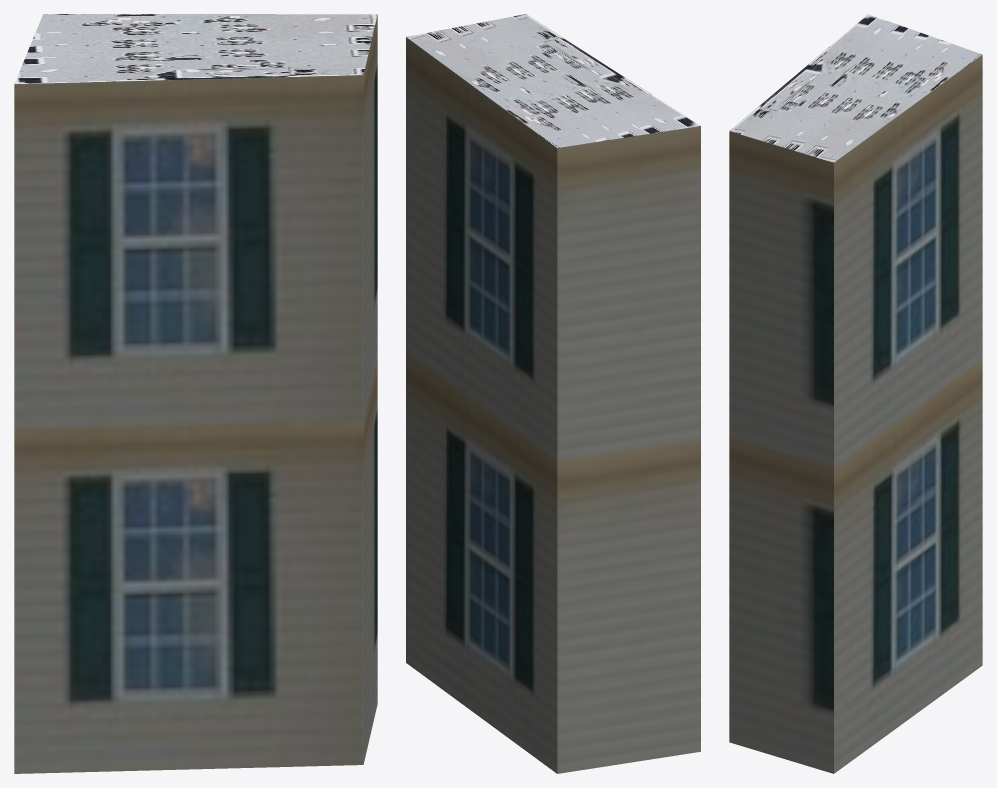
The model's file is ResTex__2446.fbx.
3 views of the same model, side by side, from view 1: azimuth 30°, elevation 25°; view 2: azimuth 150°, elevation 25°; view 3: azimuth 270°, elevation 25° (orthographic). The views are drawn at different scales.
Visible parts, largest first — view 1: CityEngineMaterial_7_m, CityEngineMaterial_m; view 2: CityEngineMaterial_7_m, CityEngineMaterial_m; view 3: CityEngineMaterial_7_m, CityEngineMaterial_m.
Part boxes in pixels (bbox=[...]): CityEngineMaterial_7_m: bbox=[14, 15, 377, 773]; CityEngineMaterial_m: bbox=[14, 14, 377, 84]; CityEngineMaterial_7_m: bbox=[406, 37, 700, 773]; CityEngineMaterial_m: bbox=[406, 14, 700, 147]; CityEngineMaterial_7_m: bbox=[729, 54, 982, 773]; CityEngineMaterial_m: bbox=[730, 14, 981, 162].
Bounding box in the file's own units: 3.13 × 6 × 2.25.
Materials: 2 (2 with a texture image).
